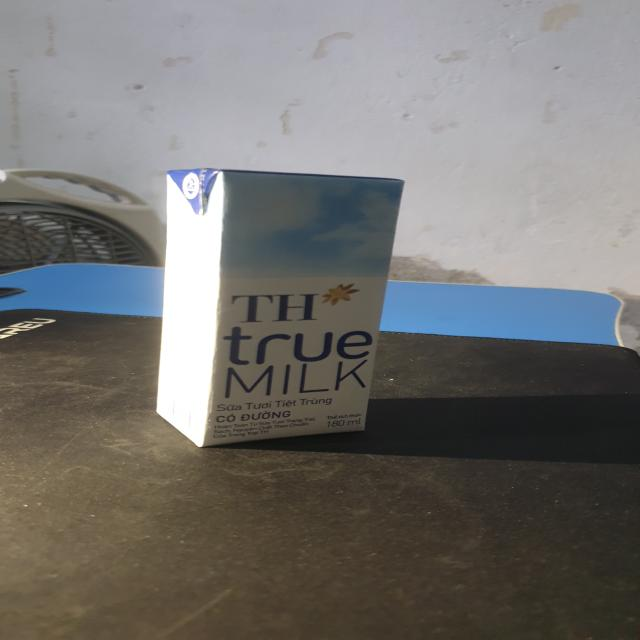TH: (153, 171, 405, 451)
